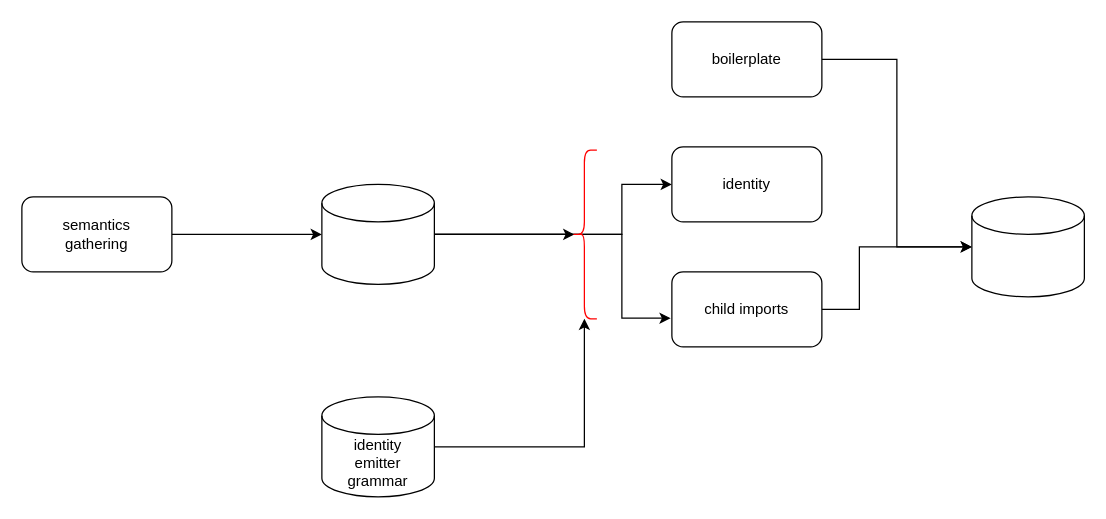
This 1106x519 diagram has some shape labels left out. Here are the shapes that lost their labels. From the top down, the centre of each, then its label:
At [377,233]: "transformed code".
At [1027,246]: "emitted code".
